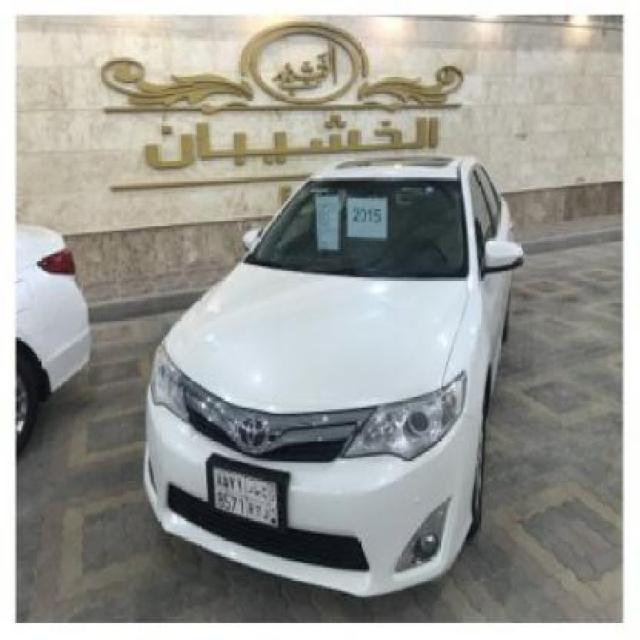license_plate: (211, 462, 283, 532)
